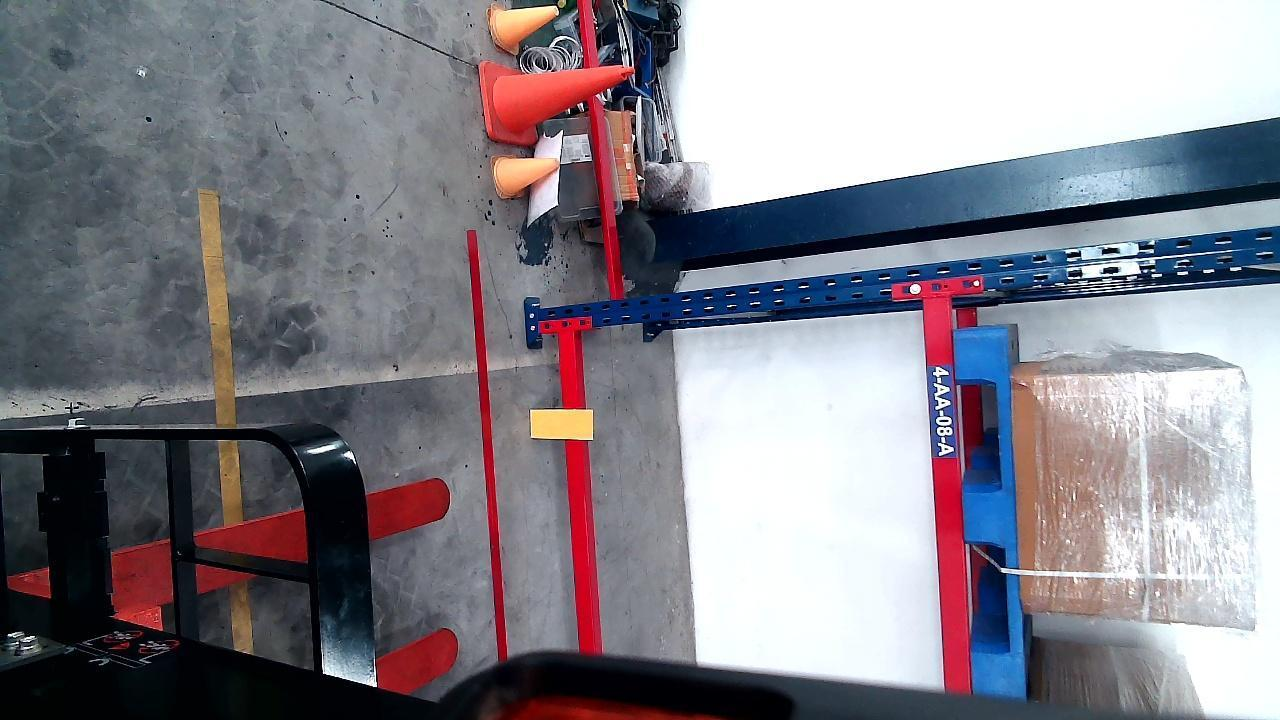h_rack: (925, 293, 969, 692), (559, 330, 598, 649)
orange_strip: (531, 408, 592, 438)
red_line: (473, 234, 505, 664)
small_pallet: (960, 333, 1024, 682)
yellow_line: (200, 177, 245, 527)
